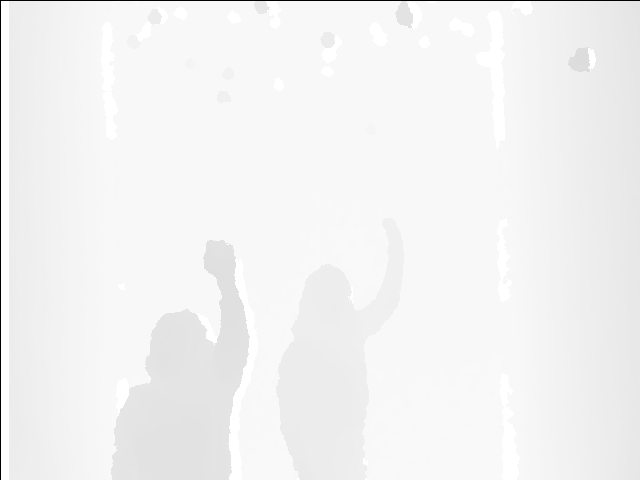hand: (204, 236, 237, 286), (380, 216, 408, 250)
